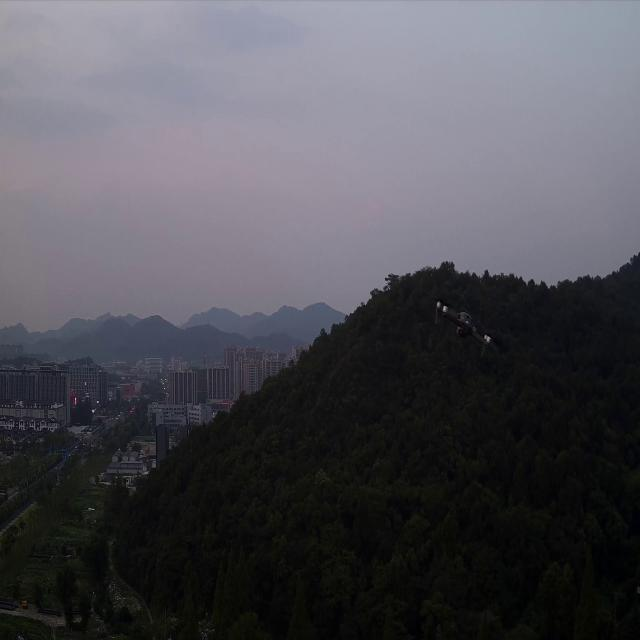UAV: (432, 297, 502, 360)
